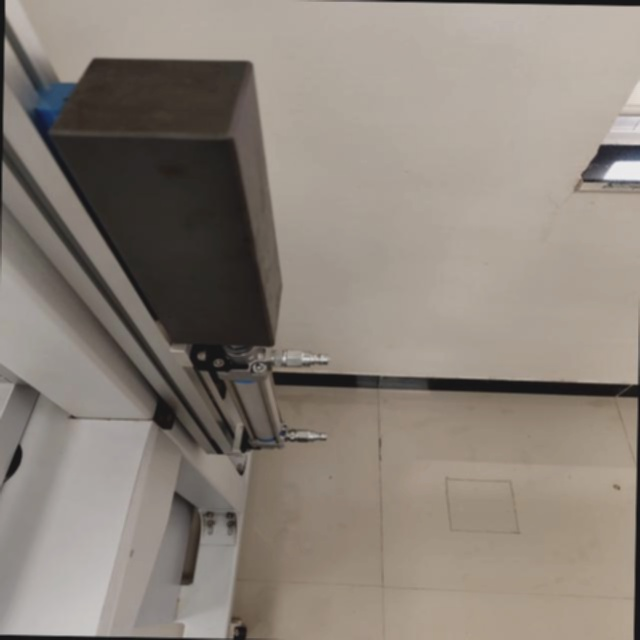load: (18, 51, 343, 457)
